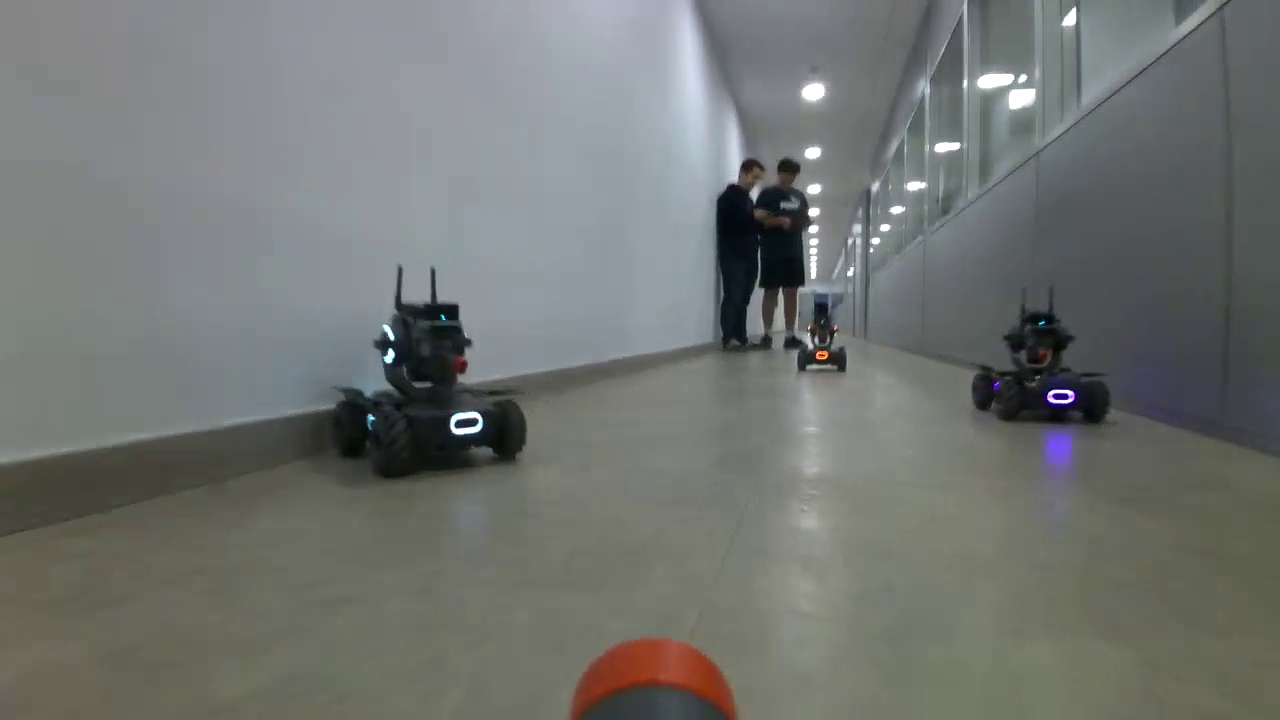robot: (331, 301, 528, 480), (973, 311, 1113, 426), (797, 322, 847, 374)
